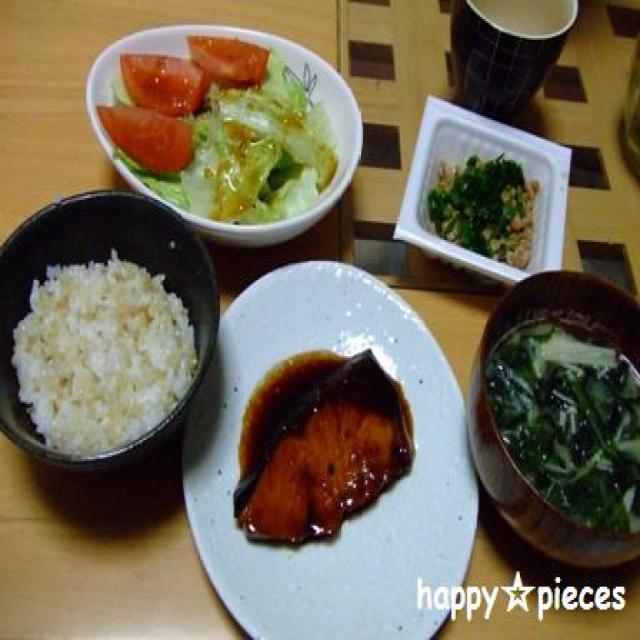熟制海鲜: (230, 337, 420, 556)
